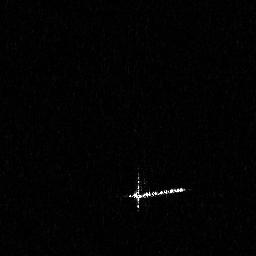ship: (120, 167, 193, 213)
